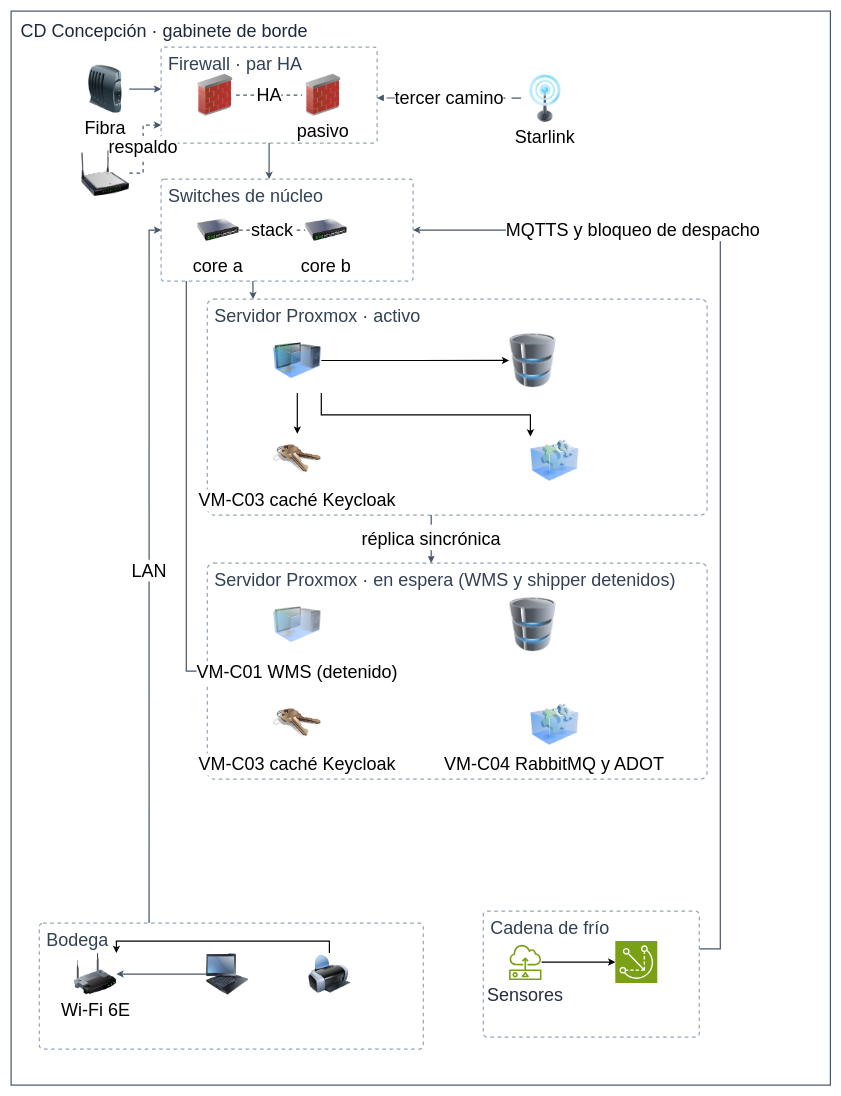
Image size: 841x1096. Some labels were removed from this diagram. Each missing label, with the centre of its shape:
activo: (215,95)
Gateway IoT: (636,961)
Impresoras de andén: (329,974)
LTE: (105,173)
MC9400: (227,974)
VM-C01 WMS Core: (297,360)
VM-C02 PostgreSQL: (533,360)
VM-C02 PostgreSQL réplica: (533,624)
VM-C04 RabbitMQ, shipper y ADOT: (554,460)
